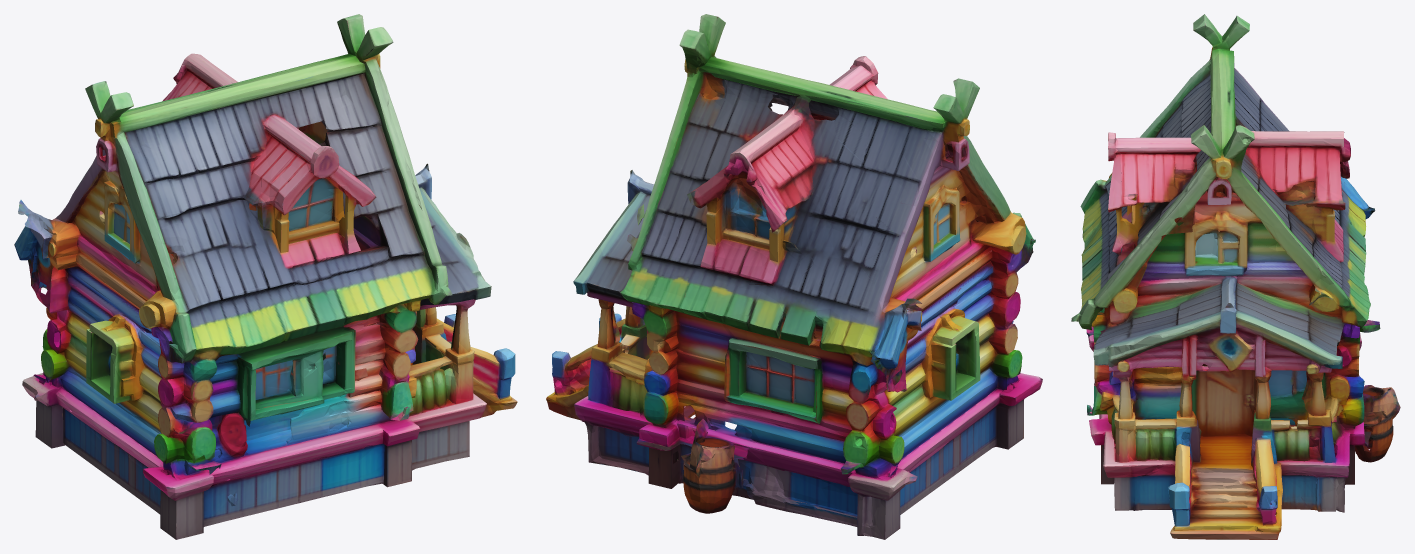
Rendered from cottage_tau3.glb.
3 views of the same model, side by side, from view 1: azimuth 30°, elevation 25°; view 2: azimuth 150°, elevation 25°; view 3: azimuth 270°, elevation 25° (orthographic). The views are drawn at different scales.
Parts seen in each view (by area): view 1: world; view 2: world; view 3: world.
Boxes of the visible parts, bbox=[...] form: world: bbox=[14, 14, 517, 539]; world: bbox=[546, 14, 1042, 539]; world: bbox=[1071, 14, 1400, 539].
Size of the model in its own units: 0.9869 by 0.9402 by 0.7636.
1 material, 1 textured.
